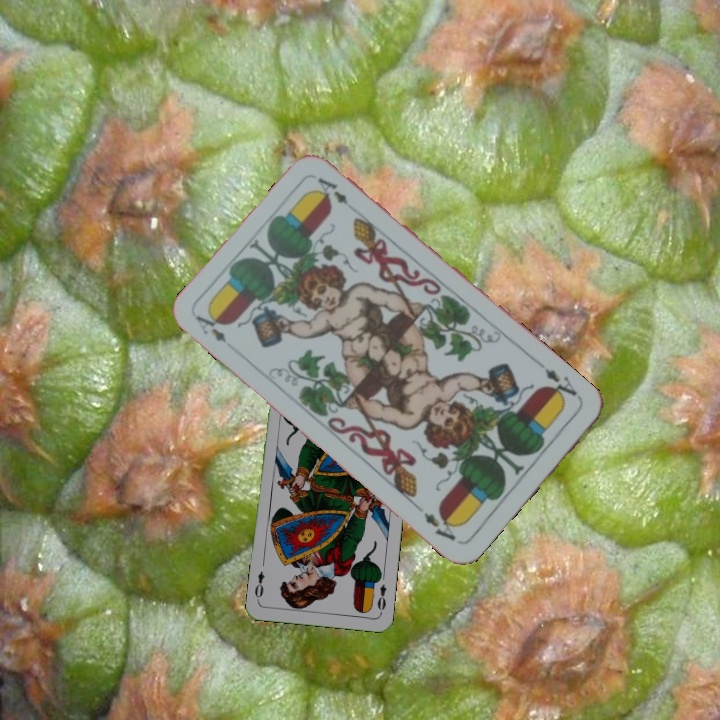EA: (535, 358, 583, 406), (191, 307, 229, 346)
EO: (373, 580, 389, 616)
